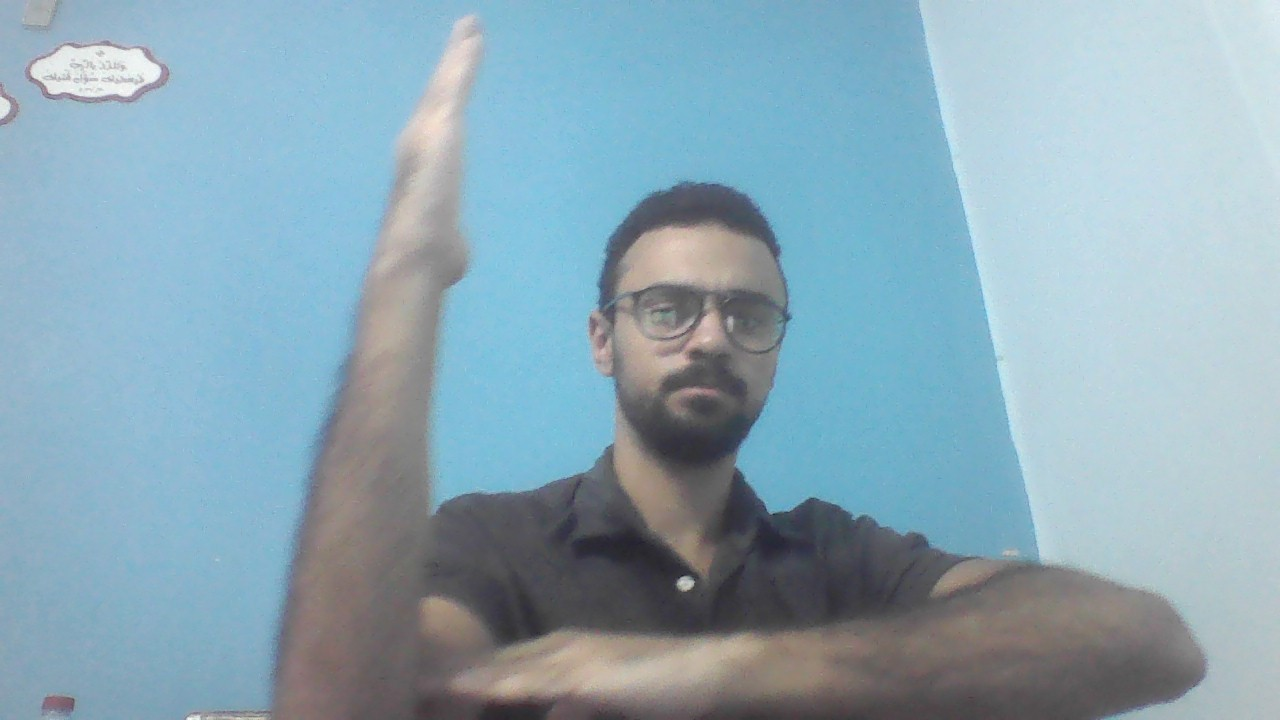morning: (273, 11, 1209, 709)
